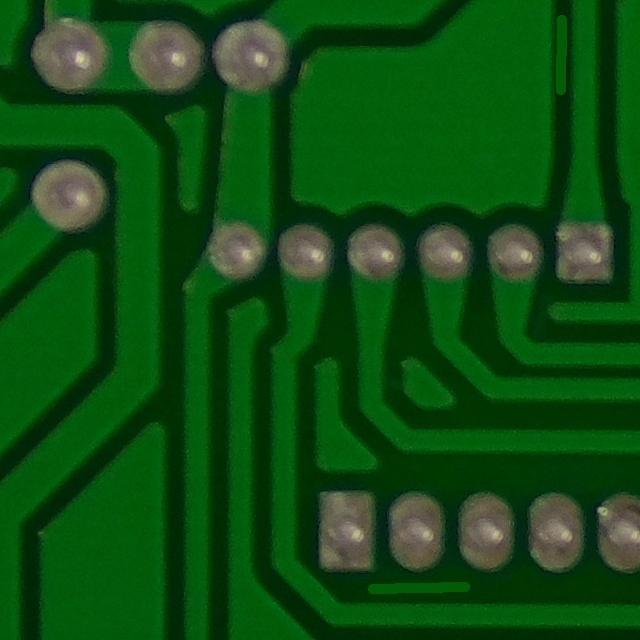spurious_copper: (528, 0, 589, 111), (349, 567, 489, 611)
